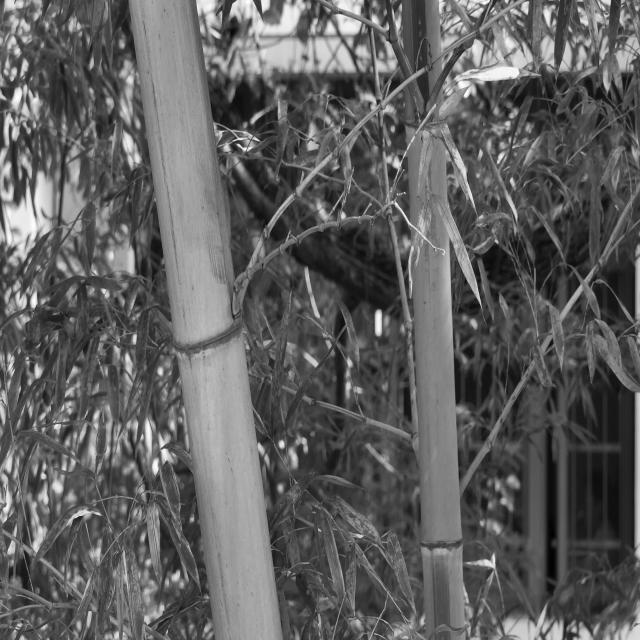Bamboo-shoots: (128, 0, 283, 640), (402, 0, 464, 640)
